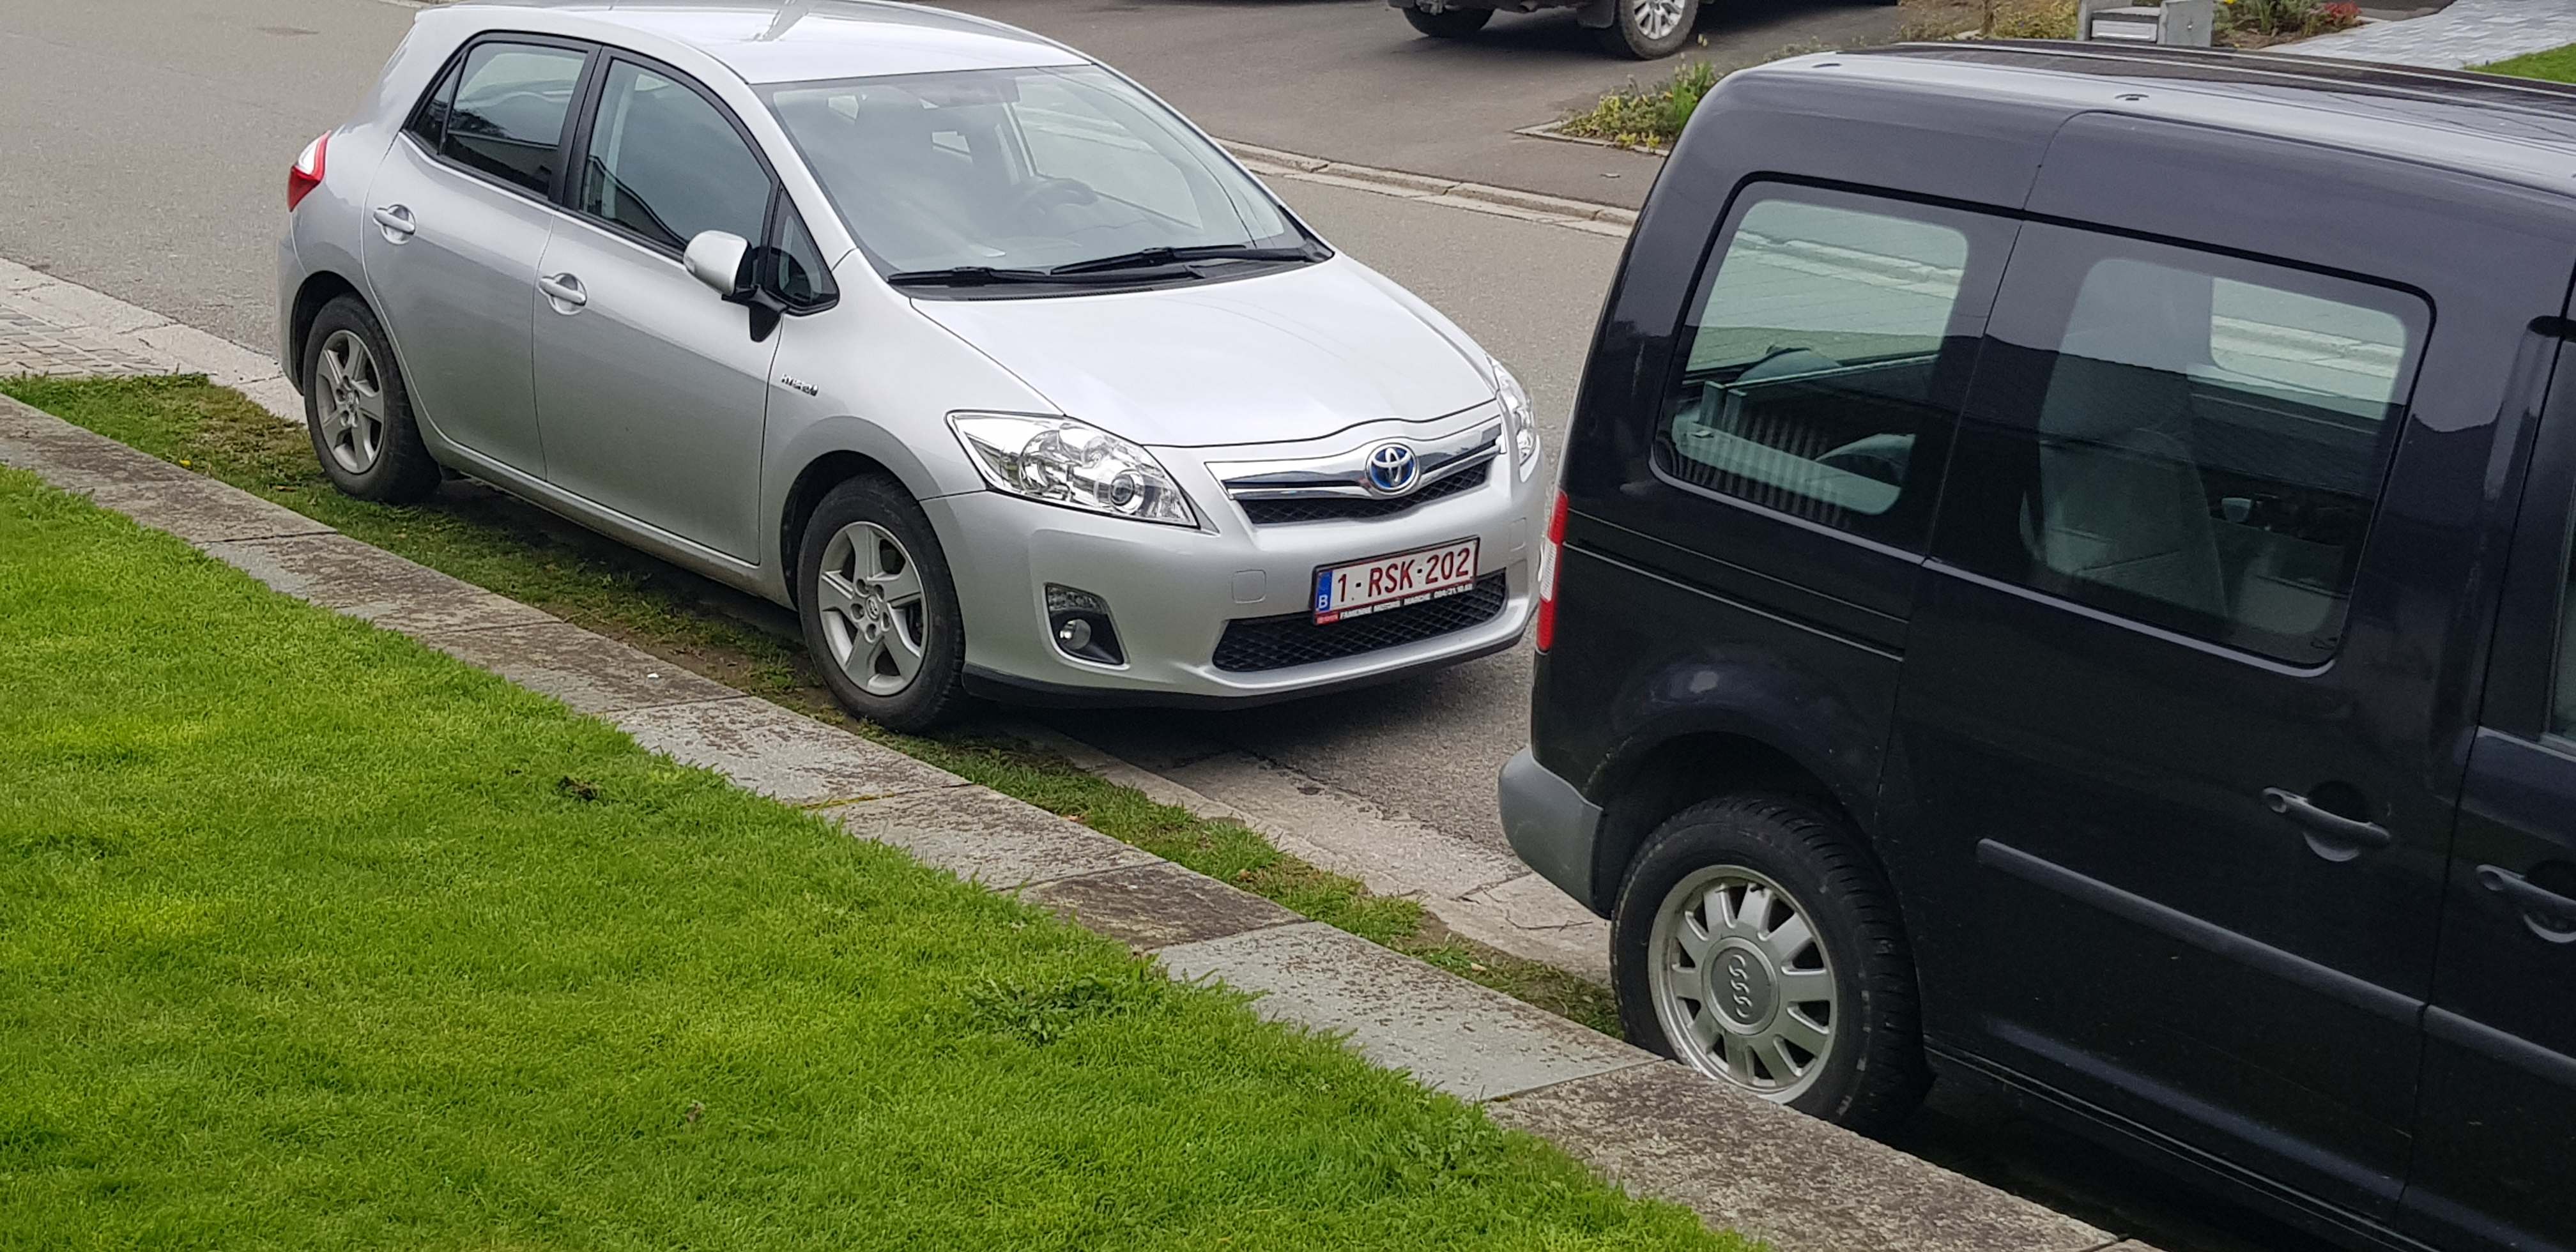licenceplate: (1311, 542, 1480, 617)
